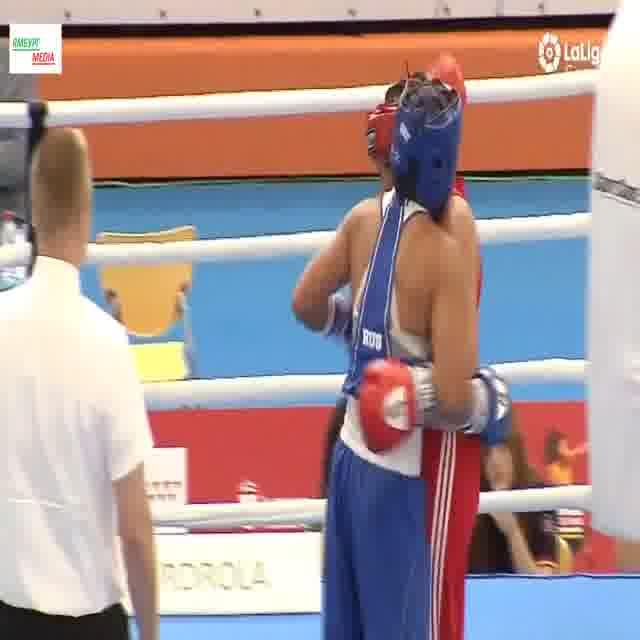blue-player: (288, 73, 510, 640)
red-player: (361, 52, 486, 640)
referee: (0, 121, 158, 640)
